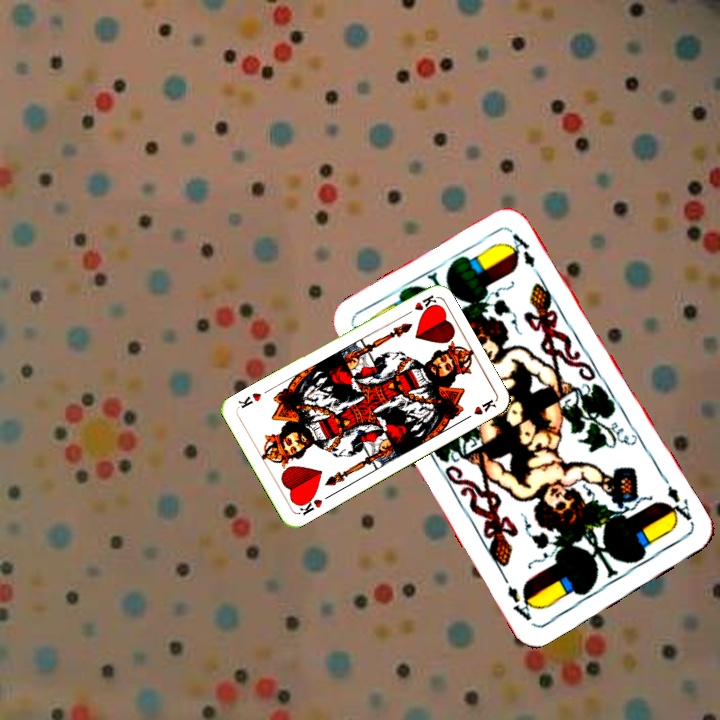EA: (661, 481, 696, 528)
HK: (399, 291, 438, 319), (294, 492, 325, 518)
